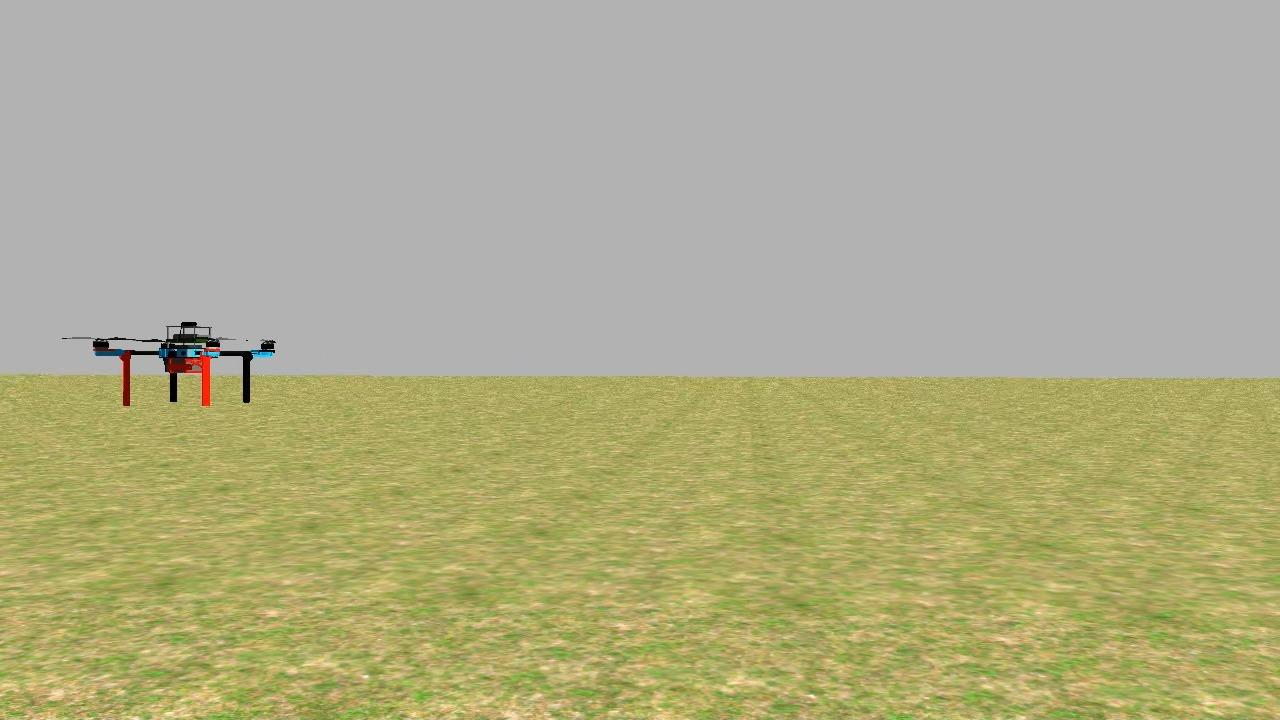UAV: (84, 312, 288, 427)
